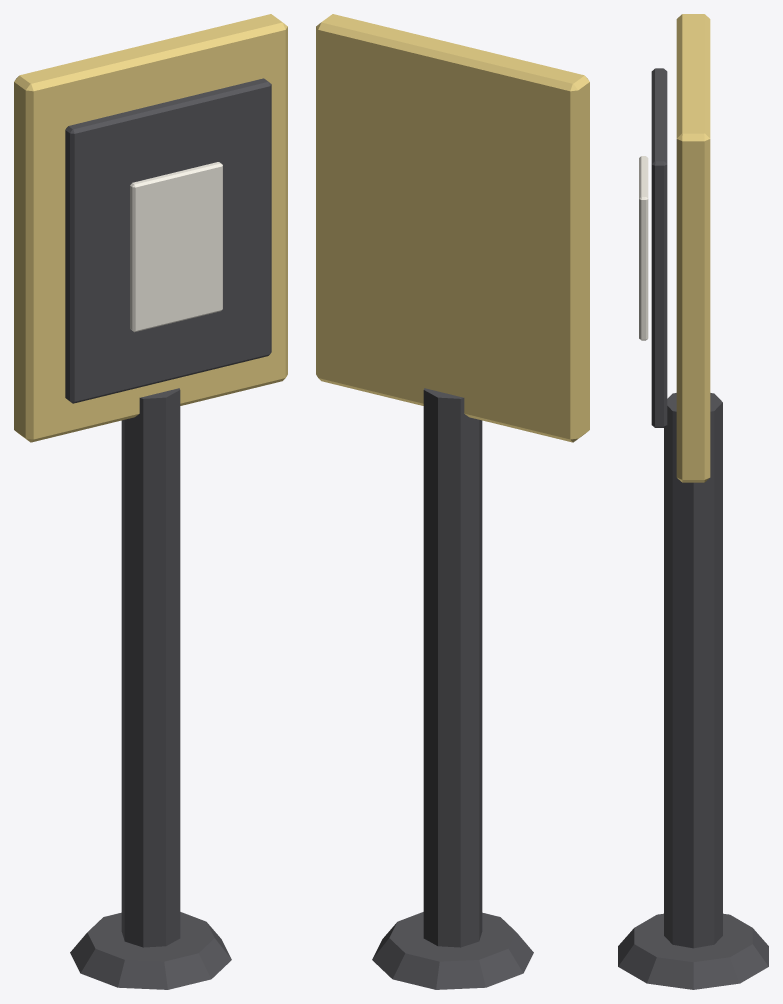
File: theatre-stage-and-backstage-row-letter-plate-160b8d03.glb
3 views of the same model, side by side, from view 1: azimuth 30°, elevation 25°; view 2: azimuth 150°, elevation 25°; view 3: azimuth 270°, elevation 25° (orthographic). The views are drawn at different scales.
Parts seen in each view (by area): view 1: row-letter-plate; view 2: row-letter-plate; view 3: row-letter-plate.
Boxes of the visible parts, box(x1,y1,x2,y2) form: row-letter-plate: box(14, 14, 287, 989); row-letter-plate: box(316, 14, 589, 989); row-letter-plate: box(618, 14, 768, 989).
Size of the model in its own units: 0.26 by 0.86 by 0.1331.
